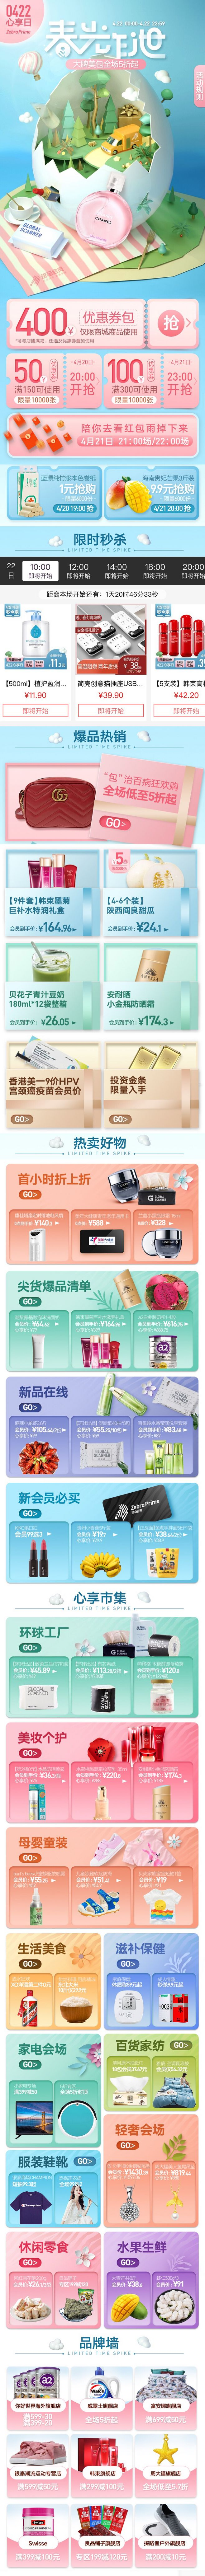floors: (0, 1587, 205, 2331), (0, 1134, 205, 1584), (0, 728, 205, 1130), (0, 2334, 205, 2569), (0, 529, 205, 726), (0, 297, 205, 460), (0, 465, 205, 521)
toutu: (0, 0, 205, 297)
